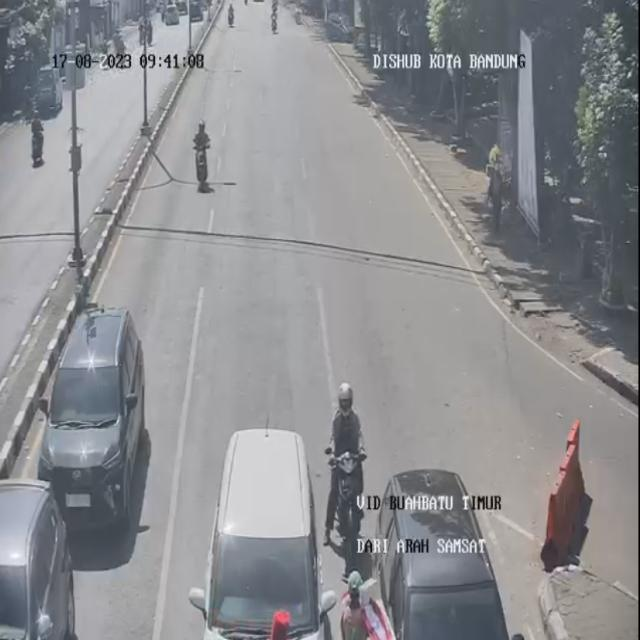cars: (198, 422, 327, 637), (35, 304, 149, 538), (374, 467, 517, 640), (0, 478, 82, 638)
motorcycle: (326, 382, 369, 546), (338, 574, 383, 640), (190, 115, 214, 191), (268, 2, 281, 38), (225, 2, 237, 31)
